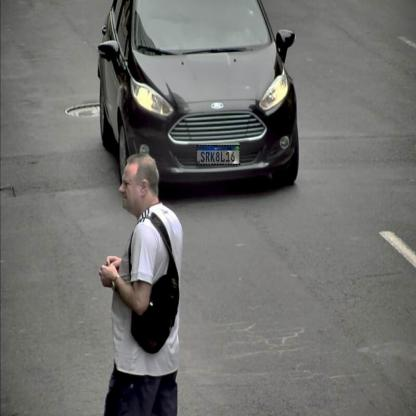PlacaM: (196, 145, 240, 165)
